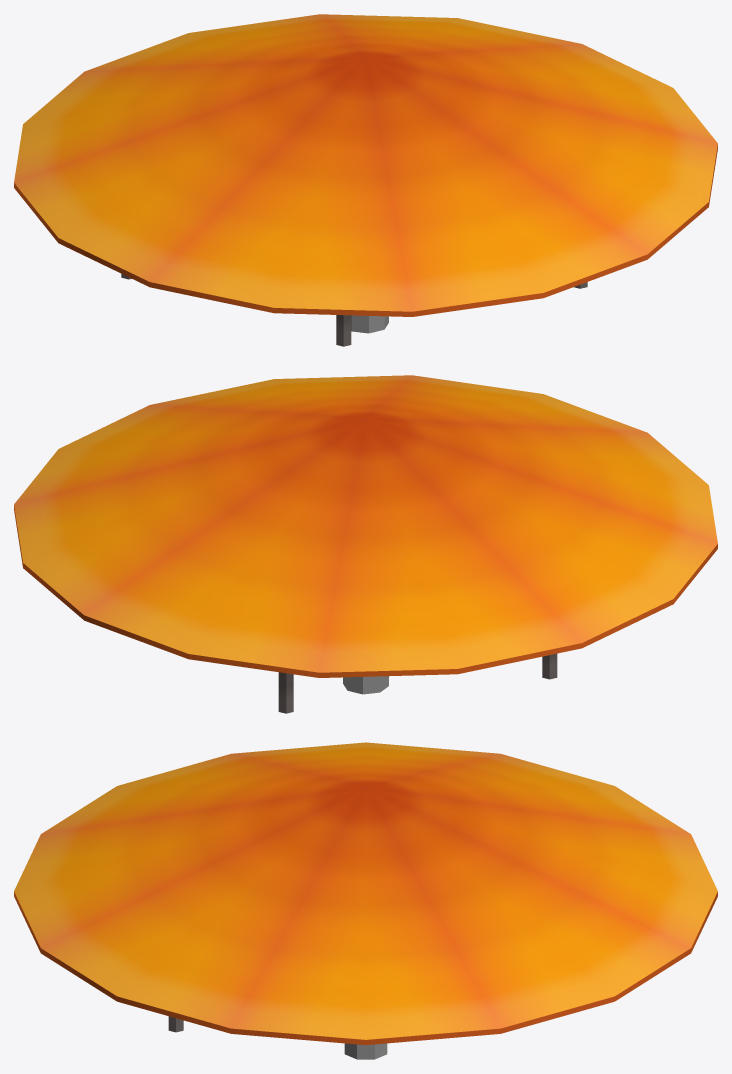
Rendered from BAR_LV2_v5.FBX.
3 renders of one model, top to bottom at view 1: azimuth 30°, elevation 25°; view 2: azimuth 150°, elevation 25°; view 3: azimuth 270°, elevation 25°, orthographic.
Visible parts, largest first — view 1: LV_2; view 2: LV_2; view 3: LV_2.
Part boxes in pixels (left/top/right/bottom): LV_2: left=14, top=14, right=717, bottom=346; LV_2: left=14, top=375, right=717, bottom=713; LV_2: left=14, top=742, right=717, bottom=1059.
Size of the model in its own units: 16.62 by 6.87 by 16.62.
